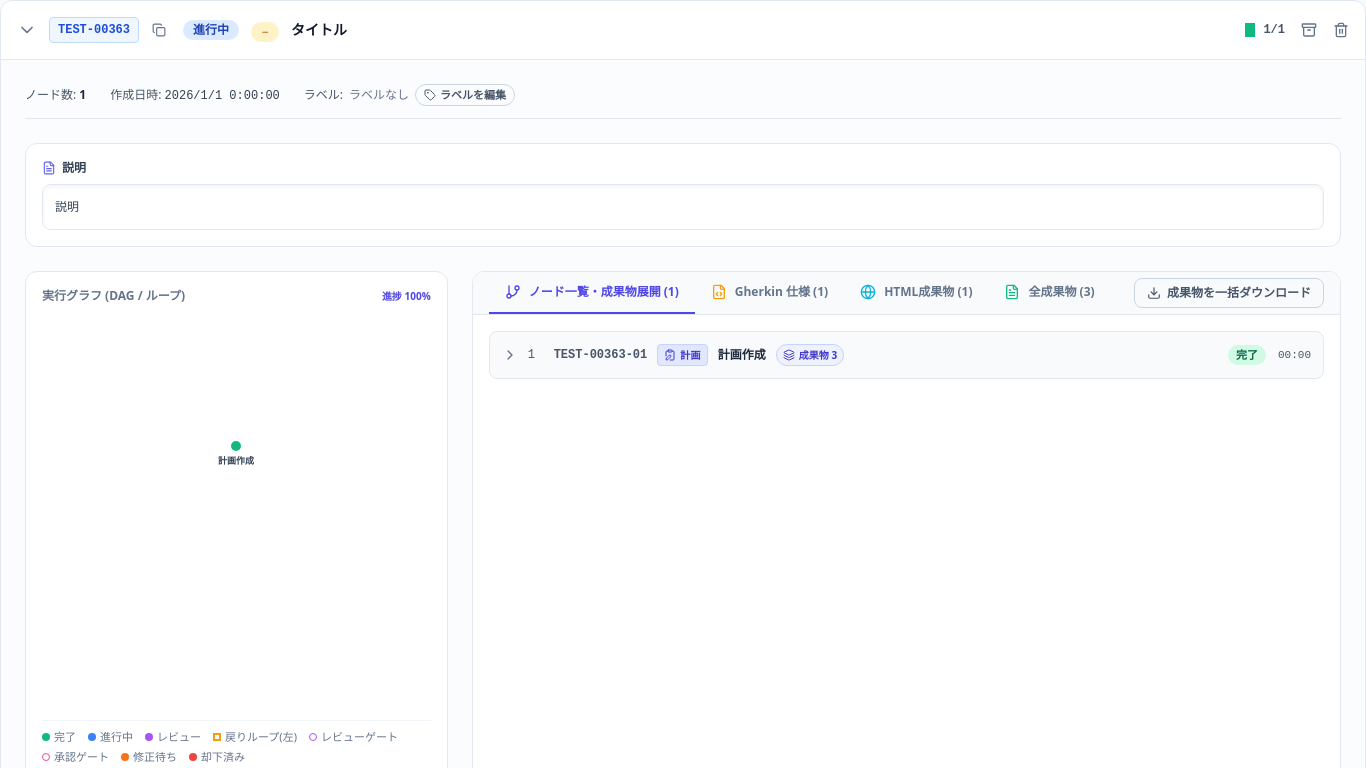
Test: DFLT-00363 the "open in new tab" link shows the blue focus ring › in the Gherkin tab
This screenshot has width=1366, height=768.
Click the tab "Gherkin 仕様 (1)".
click(769, 292)  # box [695,272,844,314]
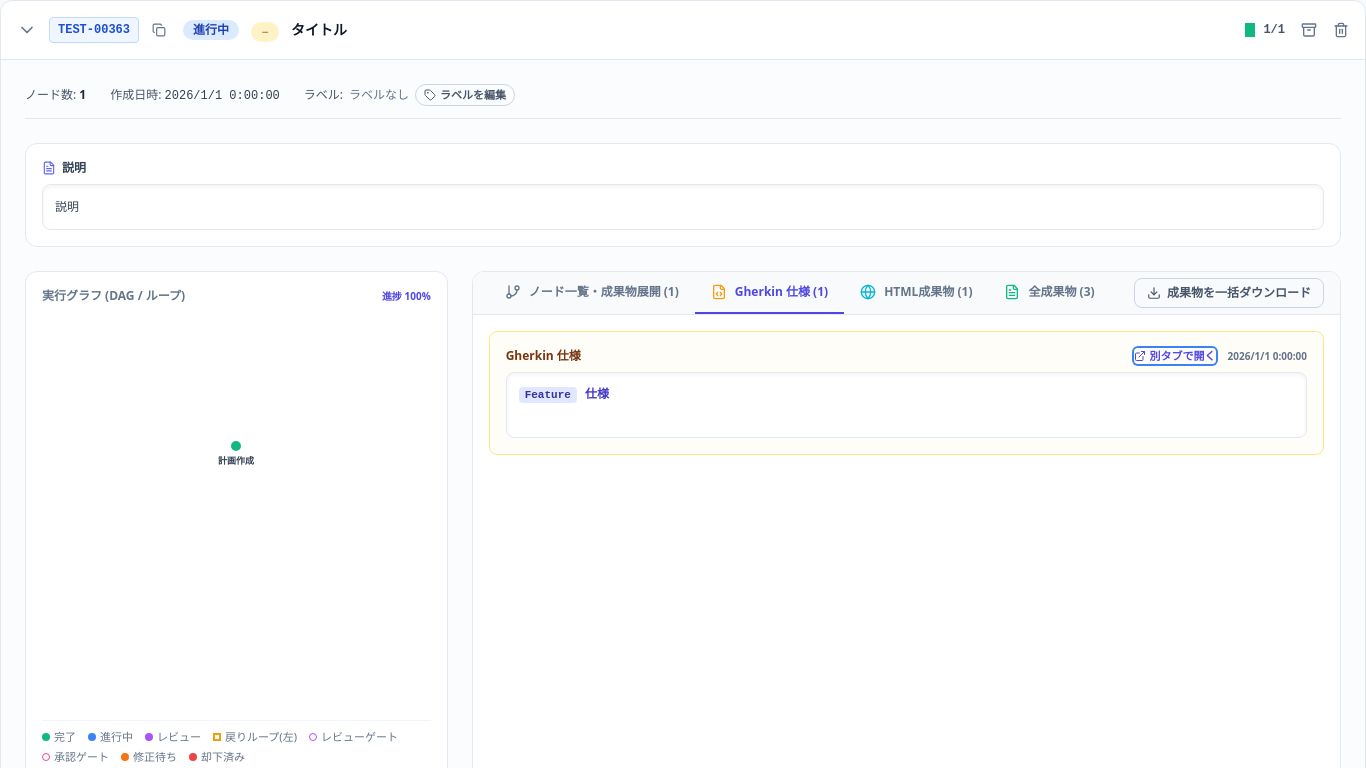
Expected: the number of links "別タブで開く" is 1, [1134,348,1216,364]
